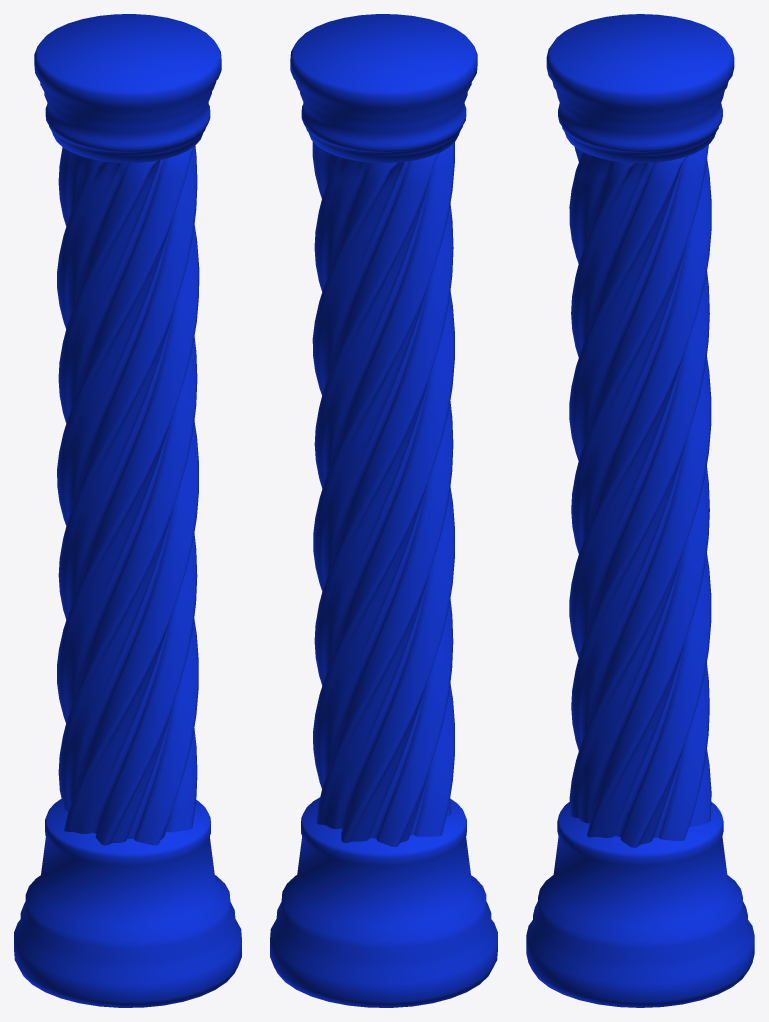
File: SM_MidPillar.fbx
3 views of the same model, side by side, from view 1: azimuth 30°, elevation 25°; view 2: azimuth 150°, elevation 25°; view 3: azimuth 270°, elevation 25° (orthographic).
Parts seen in each view (by area): view 1: under_low; view 2: under_low; view 3: under_low.
Part boxes in pixels (<box>): under_low: <box>14,14,241,1007</box>; under_low: <box>270,14,497,1007</box>; under_low: <box>526,14,754,1007</box>.
Bounding box in the file's own units: 178 × 784 × 178.
